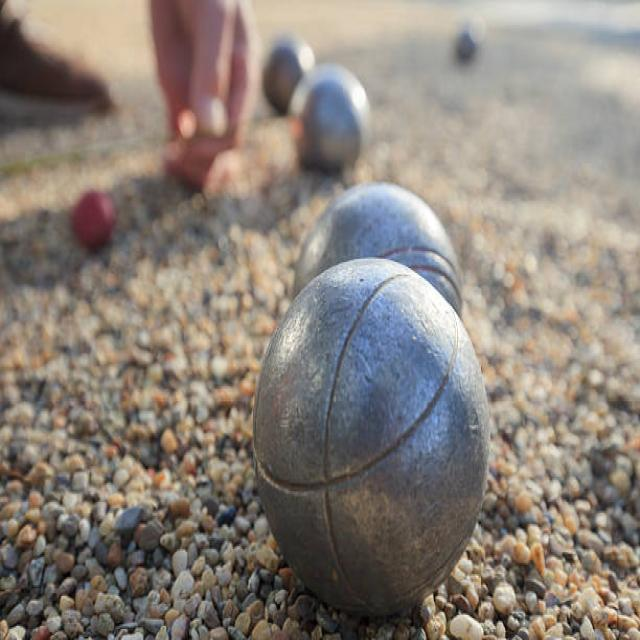hatball: (62, 183, 119, 259)
petanque: (248, 254, 498, 623), (285, 181, 469, 324), (286, 60, 374, 180), (262, 34, 323, 121), (450, 25, 482, 63)
